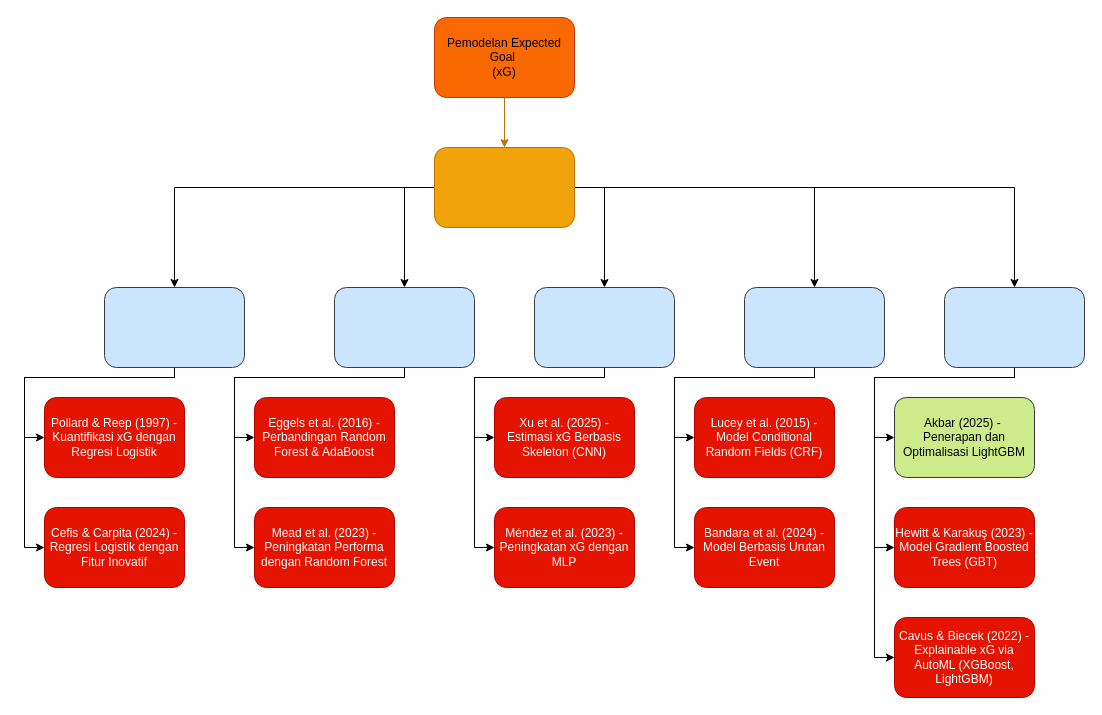
Image size: 1102x715. Some labels were removed from this diagram. The shapes that lost their labels are listed below. From the top down, each one's centre as x and y in pixels, then its label:
[504,187]: Penerapan Berbagai Model Prediktif
[174,327]: Model Statistik
[404,327]: Machine Learning Klasik
[604,327]: Jaringan Saraf
[814,327]: Model Kontekstual /Spasiotemporal
[1014,327]: Gradient Boosting
